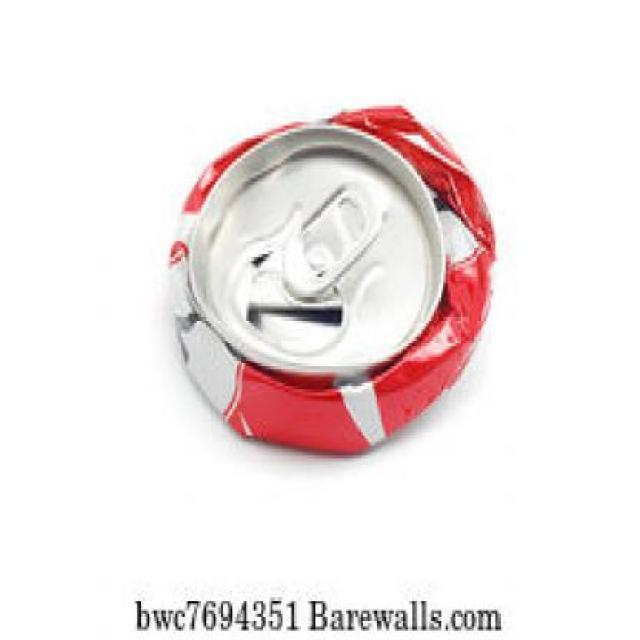can: (157, 75, 508, 471)
